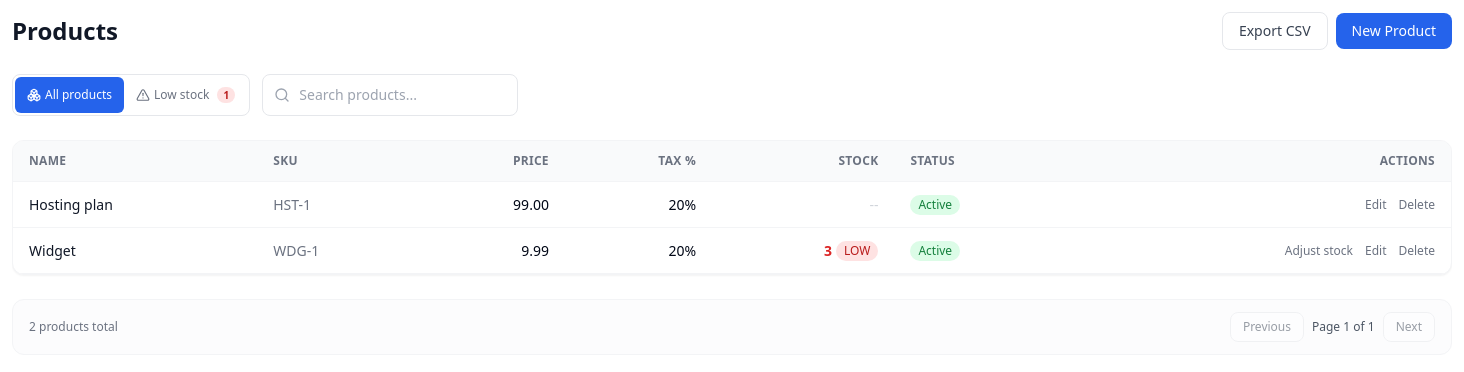
it: Products page › switches to the low-stock tab when clicked
The image size is (1464, 372).
Expected: the link "Hosting plan" is shown, [29,194,113,214]
Click the button "Low stock 1": (186,95) [124,77,247,113]
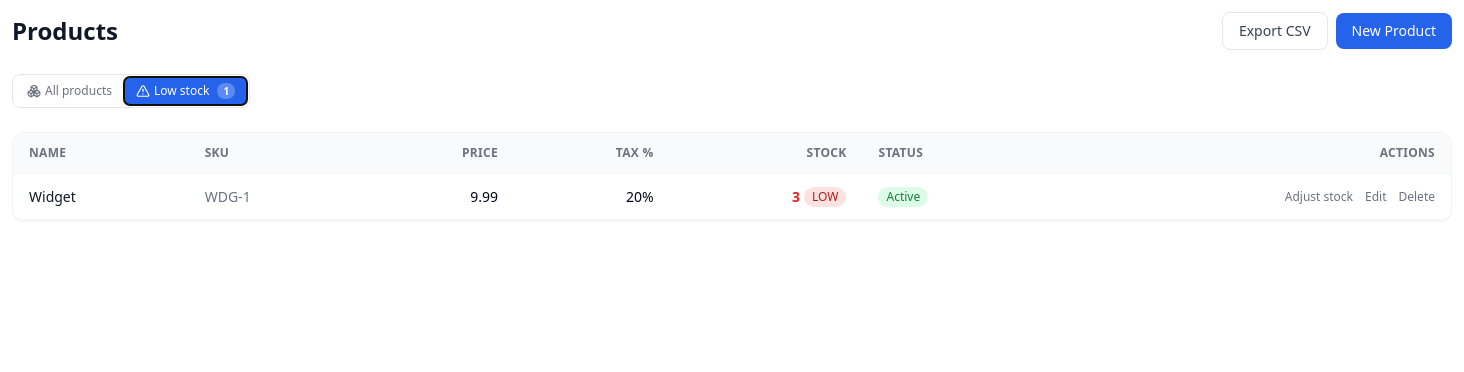
Expected: the link "Widget" is shown, [29,186,76,206]
Expected: the link "Hosting plan" is gone
